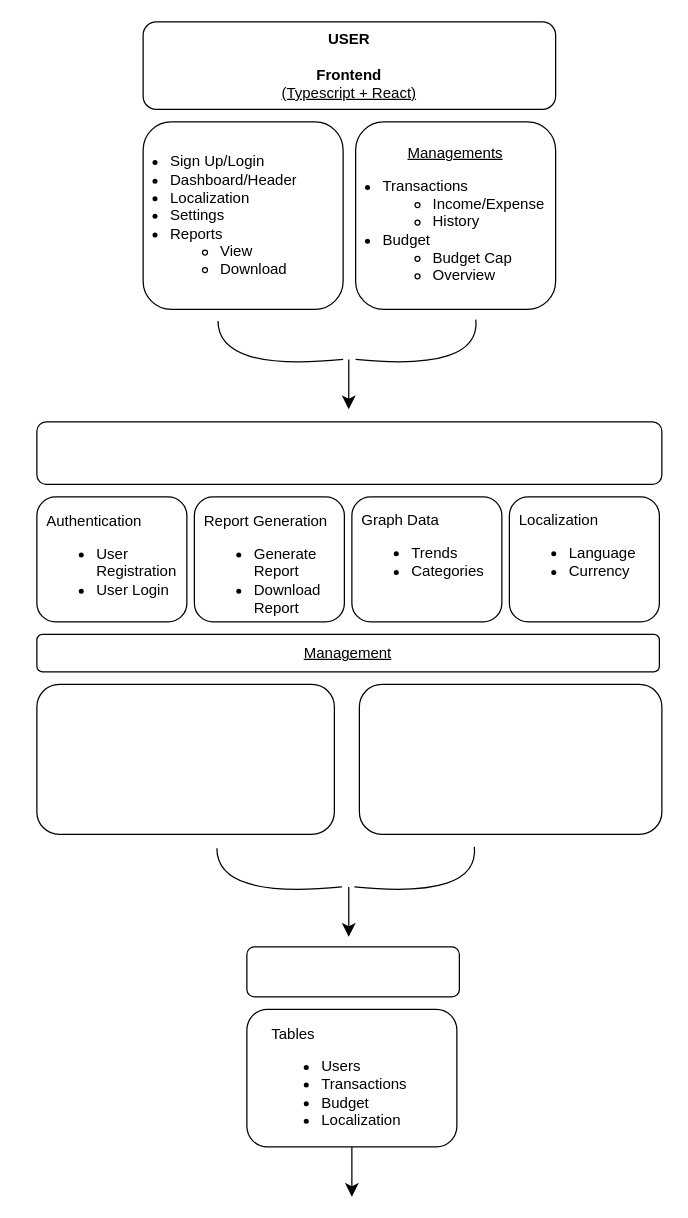
Some shapes in this 688 by 1218 pixel diagram are drawn without their labels. The shapes that lost their labels are listed below. From the top down, each one's centre as x and y in pixels, then its label:
At point (349, 452): "API Endpoints (Flask/Django - Python)".
At point (185, 758): "Transactions Add/Delete/Edit Transactions Get Transactions".
At point (510, 758): "Budget Set Budget Get Budget".
At point (352, 971): "Database (SQLite)".
